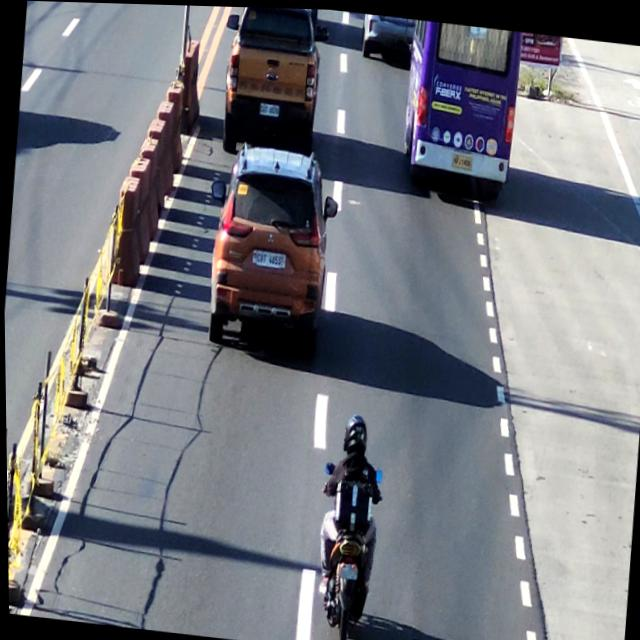Bus: (402, 17, 522, 207)
Car: (202, 139, 342, 355), (218, 5, 325, 141)
License-Plate: (250, 243, 289, 275), (332, 554, 359, 580), (257, 94, 282, 119), (450, 150, 474, 170)
Motorcycle: (304, 412, 391, 640)
